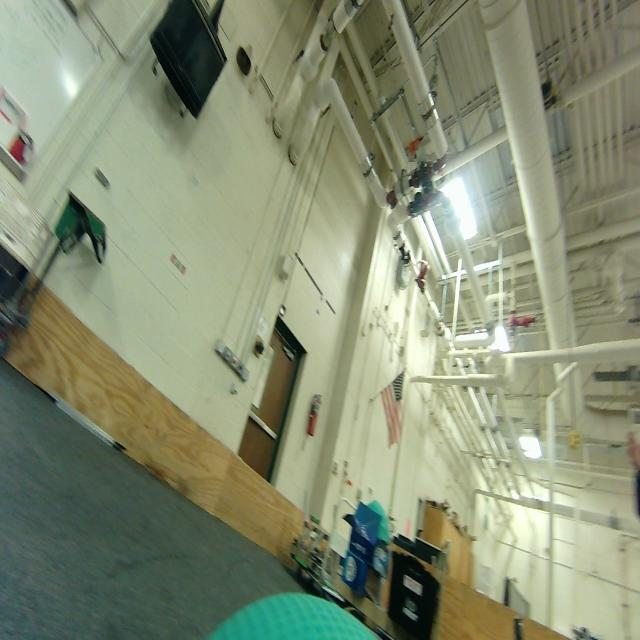algae: (201, 569, 384, 640)
